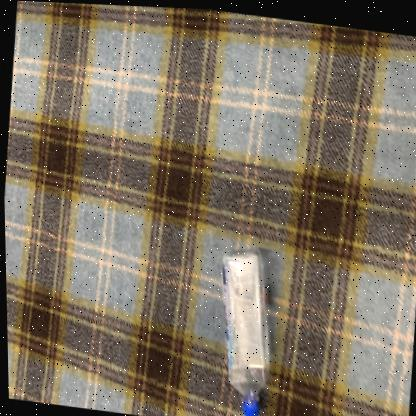Plastic: (221, 246, 269, 416)
